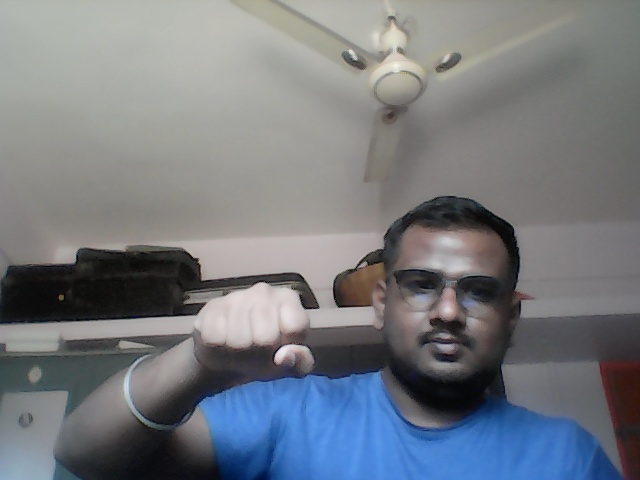Yes: (191, 278, 316, 383)
